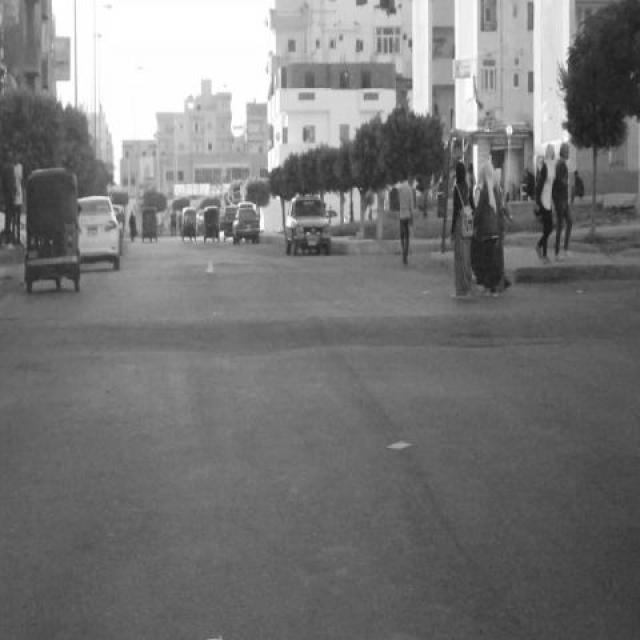Unmarked Bump: (0, 300, 640, 354)
